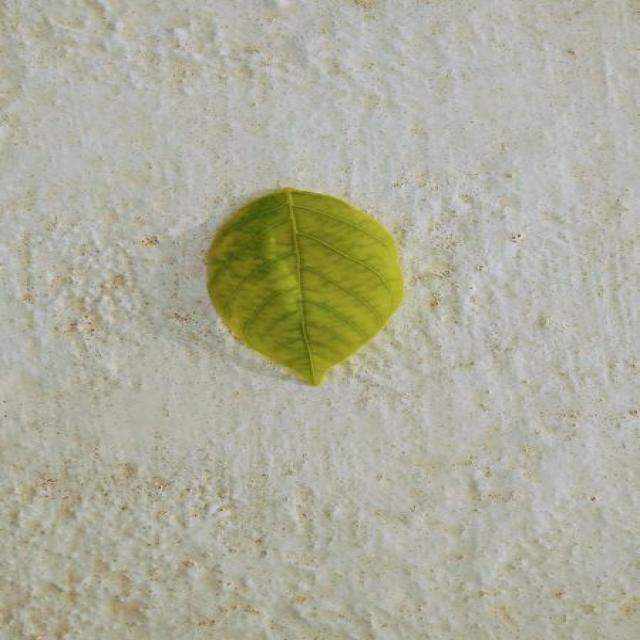honge: (208, 188, 403, 384)
leaf rust: (289, 192, 362, 373)
